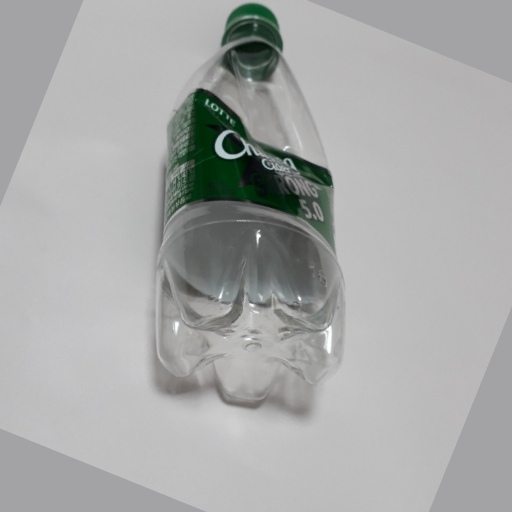Plastic_0: (148, 4, 348, 412)
